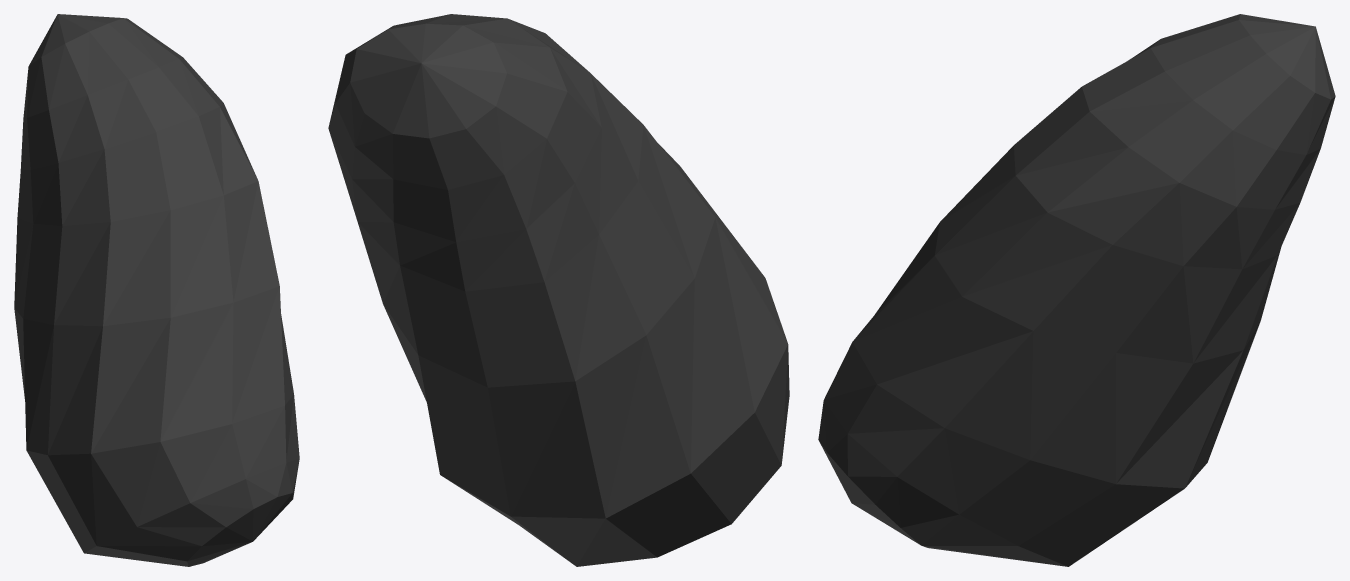
File: Adrenal_R.glb
3 views of the same model, side by side, from view 1: azimuth 30°, elevation 25°; view 2: azimuth 150°, elevation 25°; view 3: azimuth 270°, elevation 25° (orthographic). The views are drawn at different scales.
Visible parts, largest first — view 1: Adrenal_R; view 2: Adrenal_R; view 3: Adrenal_R.
Boxes of the visible parts, x1=… form: Adrenal_R: x1=14, y1=14, x2=299, y2=566; Adrenal_R: x1=328, y1=14, x2=789, y2=566; Adrenal_R: x1=818, y1=14, x2=1335, y2=566.
Size of the model in its own units: 9.93 by 17.72 by 15.12.
1 material, 1 textured.
